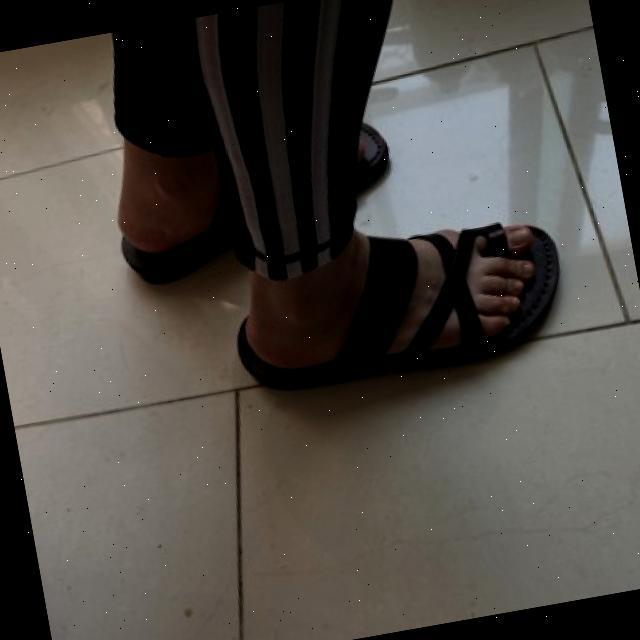no-boots: (198, 208, 622, 444)
